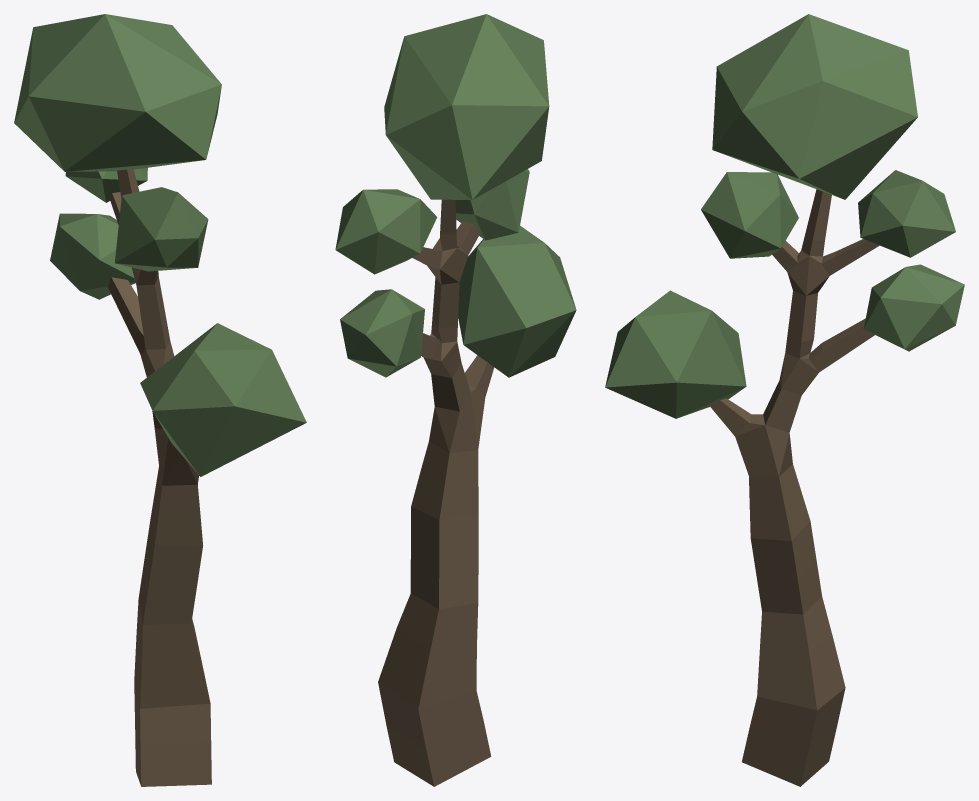
File: arvore nova 2.fbx
3 renders of one model, left to right at view 1: azimuth 30°, elevation 25°; view 2: azimuth 150°, elevation 25°; view 3: azimuth 270°, elevation 25°, orthographic. The views are drawn at different scales.
Visible parts, largest first — view 1: Icosphere.004, Cube, Icosphere, Icosphere.002, Icosphere.001, Icosphere.003; view 2: Cube, Icosphere.004, Icosphere, Icosphere.003, Icosphere.001, Icosphere.002; view 3: Cube, Icosphere.004, Icosphere, Icosphere.002, Icosphere.001, Icosphere.003.
Part boxes in pixels (bbox=[...]): Icosphere.004: bbox=[14, 14, 221, 171]; Cube: bbox=[108, 169, 211, 786]; Icosphere: bbox=[140, 323, 306, 476]; Icosphere.002: bbox=[114, 187, 208, 271]; Icosphere.001: bbox=[50, 213, 135, 299]; Icosphere.003: bbox=[65, 167, 147, 202]; Cube: bbox=[378, 199, 494, 786]; Icosphere.004: bbox=[384, 14, 549, 199]; Icosphere: bbox=[458, 225, 576, 377]; Icosphere.003: bbox=[335, 189, 437, 274]; Icosphere.001: bbox=[340, 289, 424, 377]; Icosphere.002: bbox=[455, 169, 529, 240]; Cube: bbox=[709, 189, 879, 786]; Icosphere.004: bbox=[712, 14, 917, 199]; Icosphere: bbox=[605, 290, 746, 418]; Icosphere.002: bbox=[701, 172, 798, 258]; Icosphere.001: bbox=[863, 264, 964, 351]; Icosphere.003: bbox=[858, 170, 955, 257].
Size of the model in its own units: 440 by 1841 by 824.
